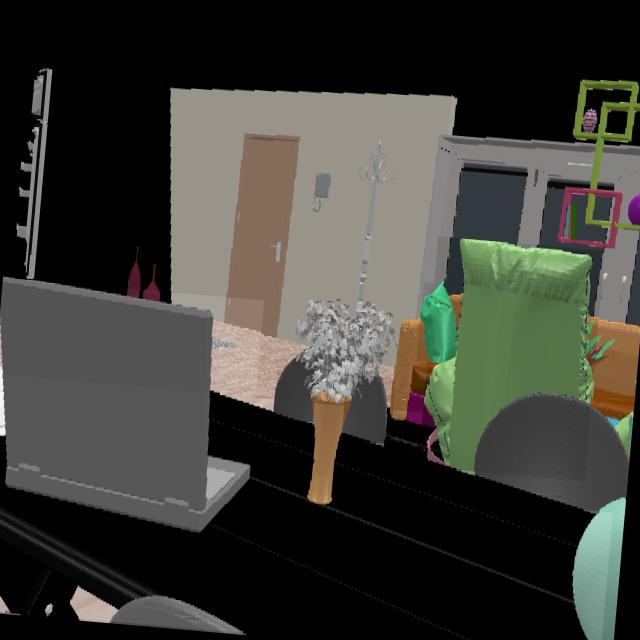chair: (475, 396, 628, 511), (342, 377, 391, 443), (273, 358, 312, 422)
laptop: (0, 278, 249, 529)
pillow: (421, 284, 457, 362)
sofa: (425, 239, 593, 471), (620, 419, 630, 449)
table: (0, 394, 591, 640)
